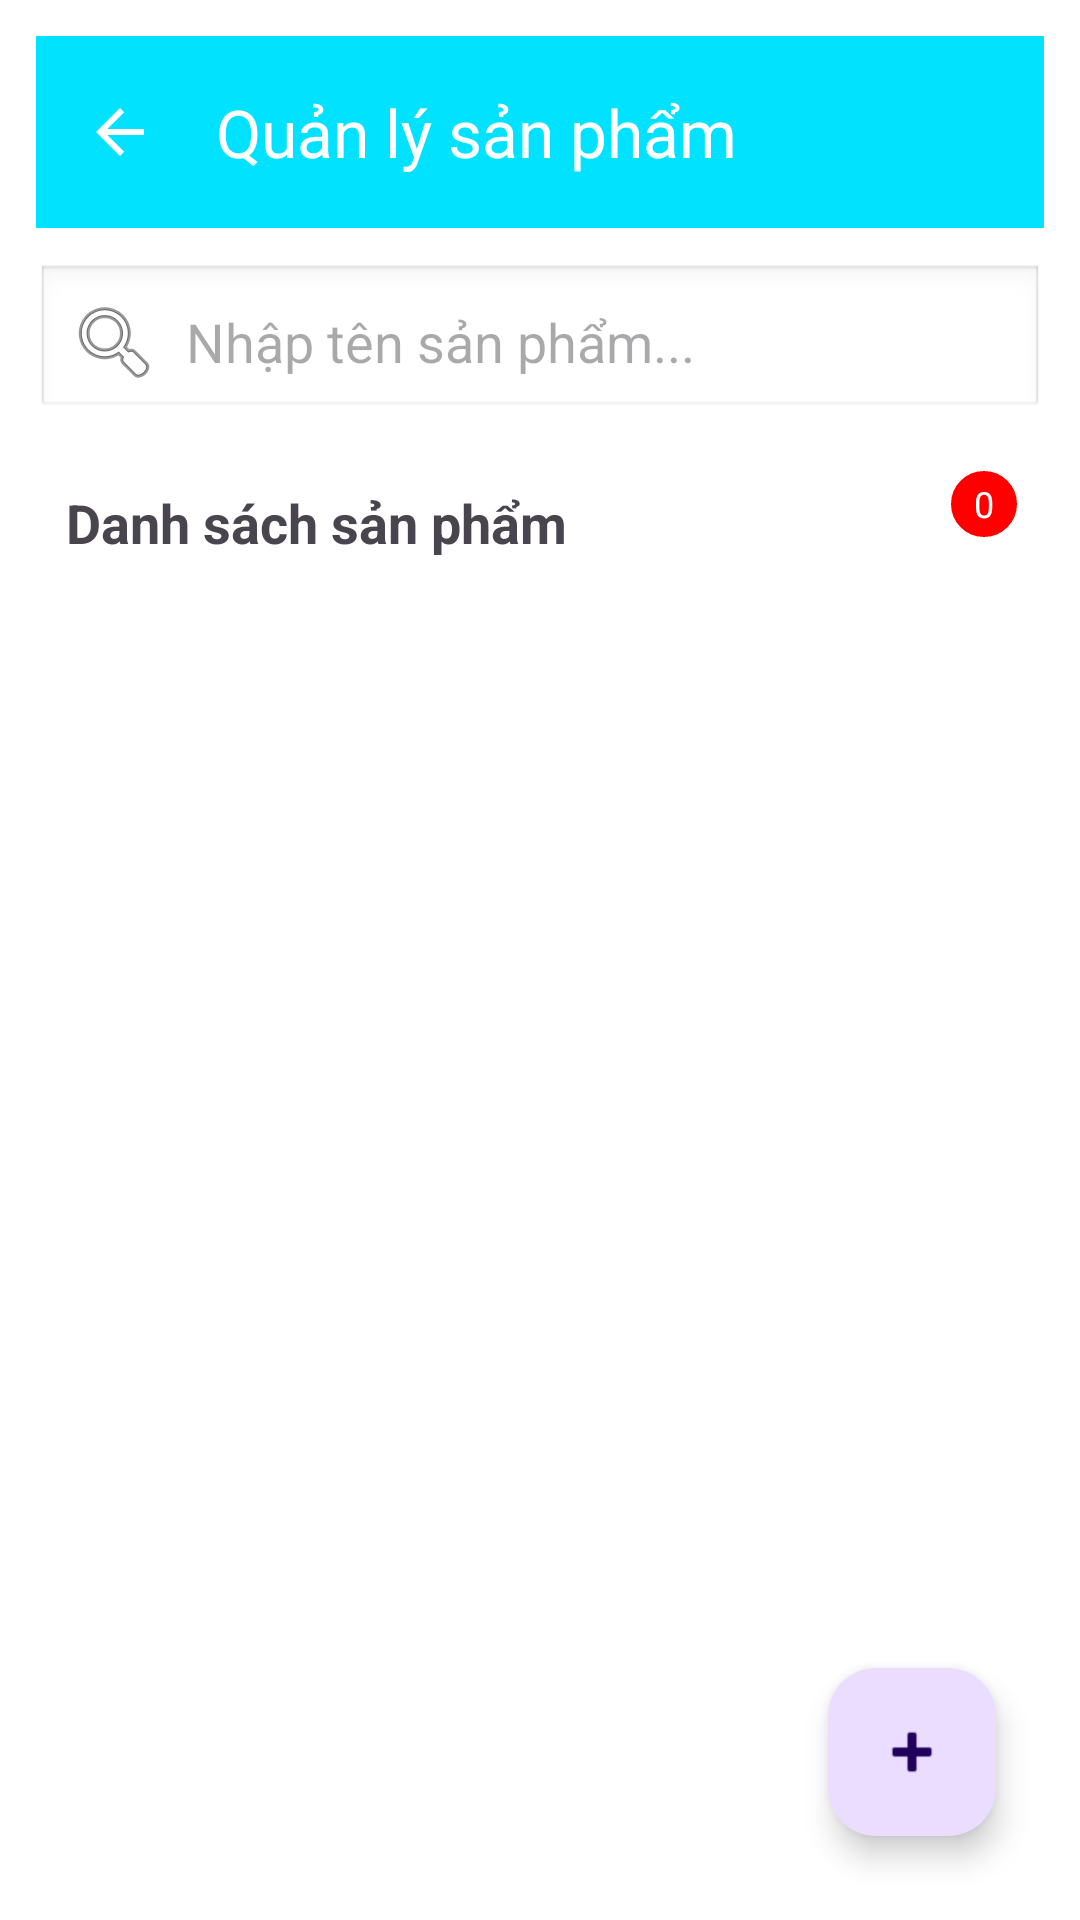

Icon bounding boxes for this 1080px x 1920px phone screenshot, format (left=x1, top=y1, right=x2, bottom=y2):
Thêm sản phẩm: (left=828, top=1668, right=996, bottom=1836)
